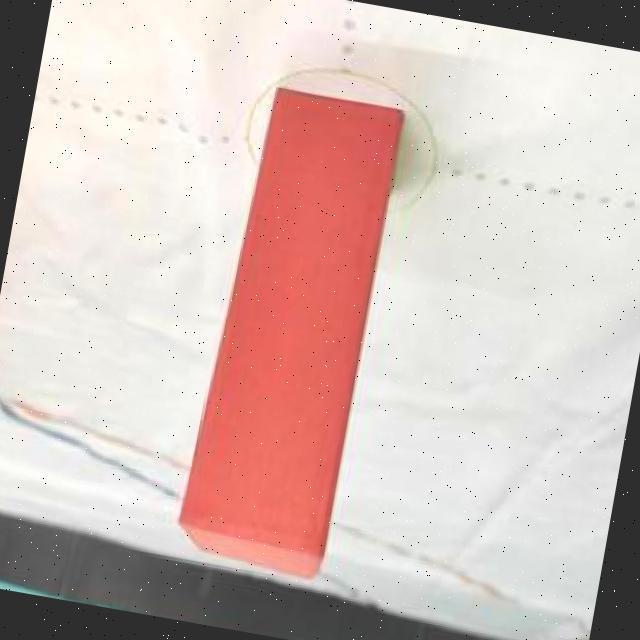redbox: (170, 81, 404, 586)
